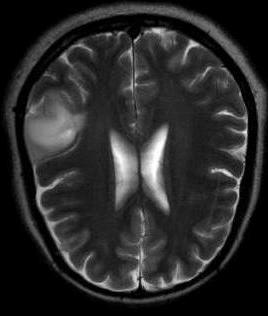Normal_Brain: (1, 1, 268, 316)
